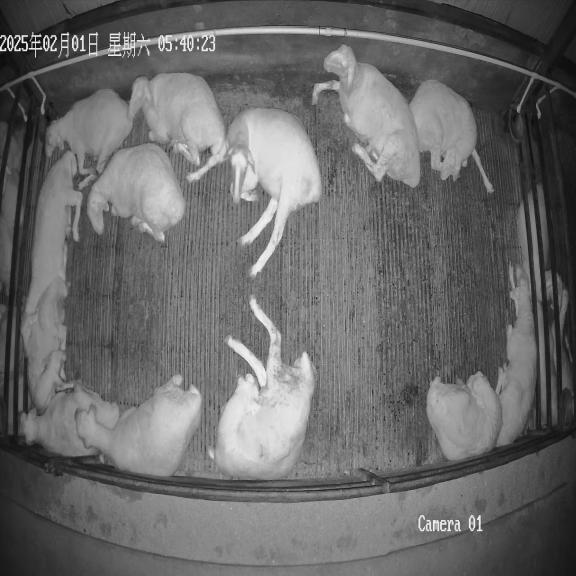lying: (187, 108, 322, 276), (207, 296, 315, 479), (312, 44, 420, 187), (75, 375, 202, 476), (21, 151, 83, 349), (87, 143, 185, 242), (410, 80, 493, 192), (129, 73, 226, 166), (45, 89, 133, 175), (495, 266, 537, 446), (20, 384, 119, 457), (426, 372, 502, 460), (24, 278, 72, 413)
